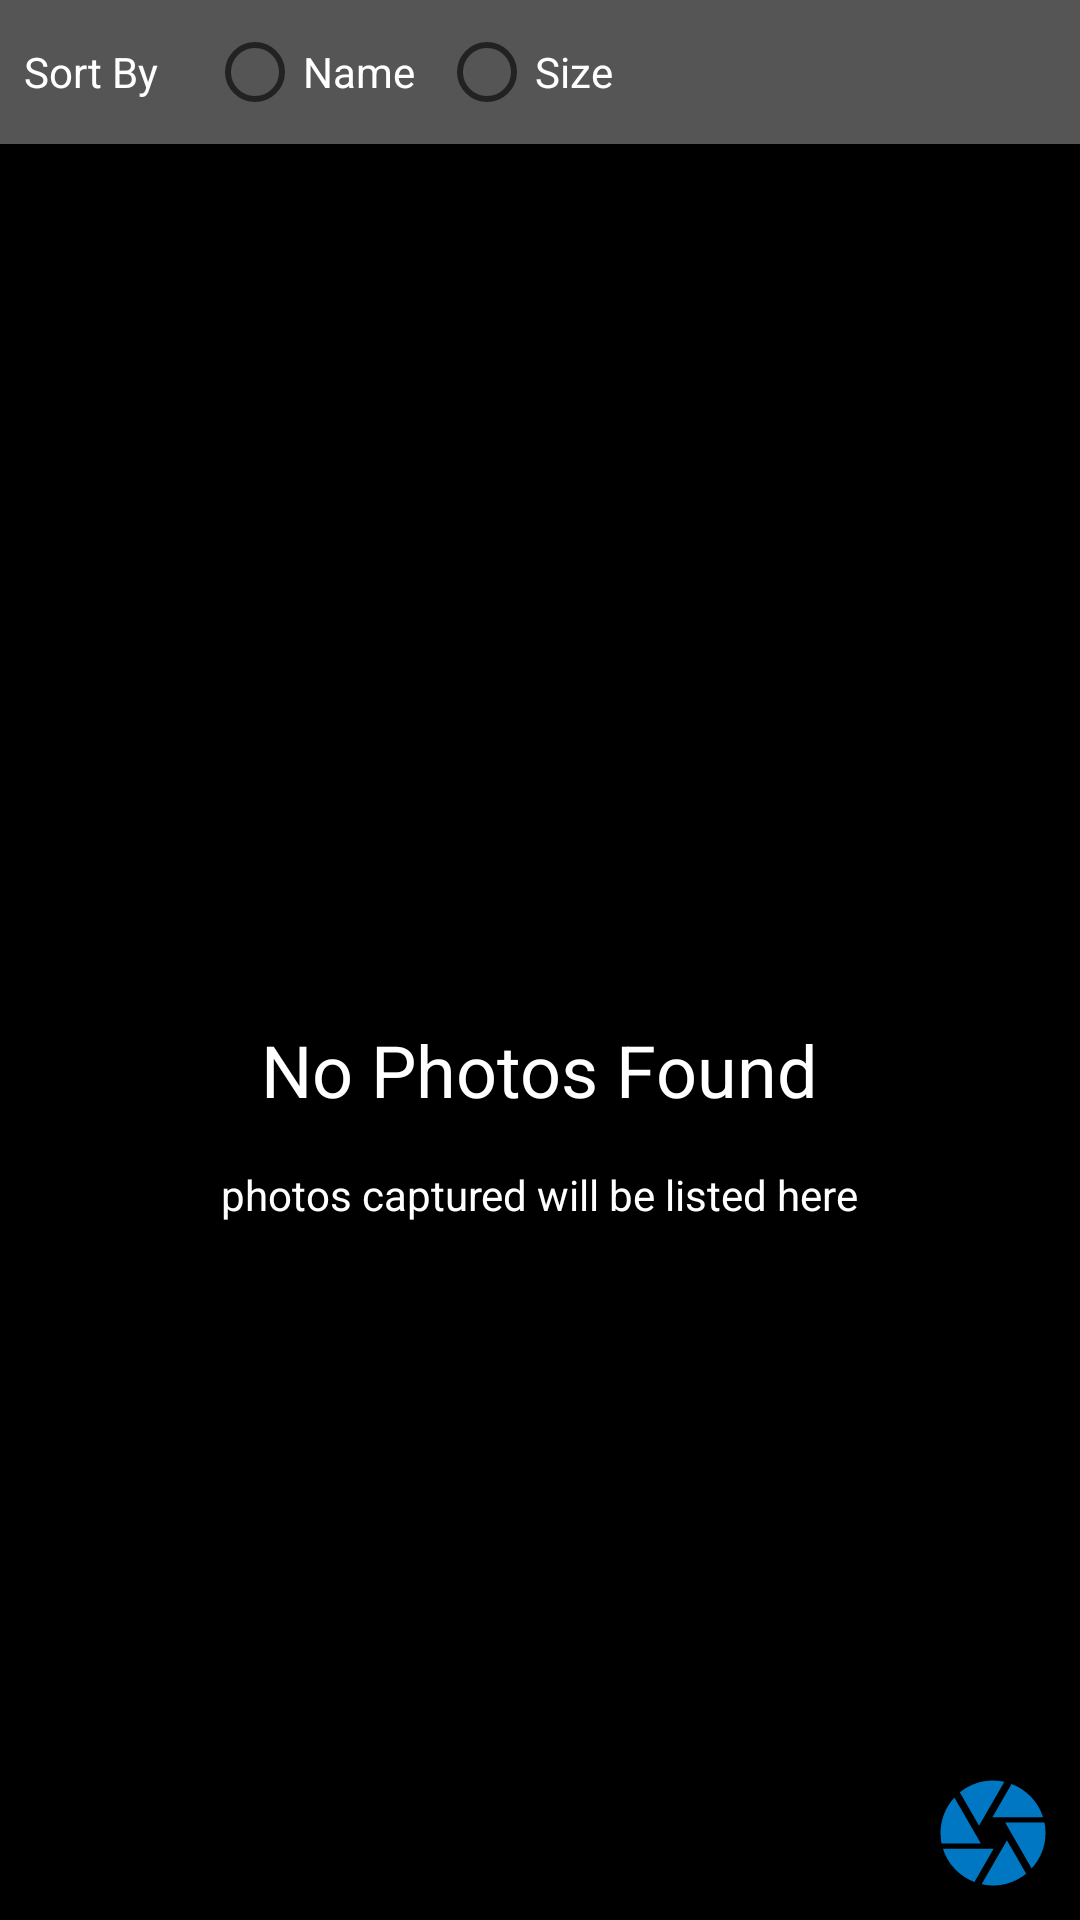

Icon bounding boxes for this 1080px x 1920px phone screenshot, format [x1,y1,x2,y2]:
camera: [940,1780,1046,1886]
